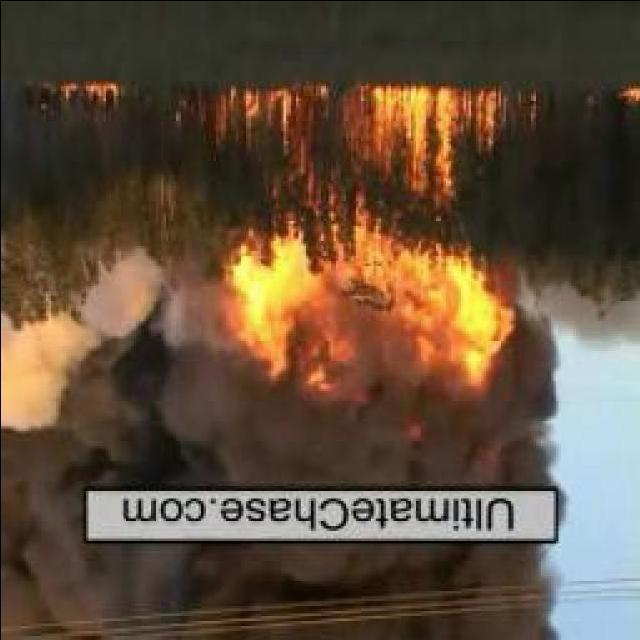Fire: (223, 90, 509, 406), (51, 80, 119, 111), (620, 86, 640, 114)
